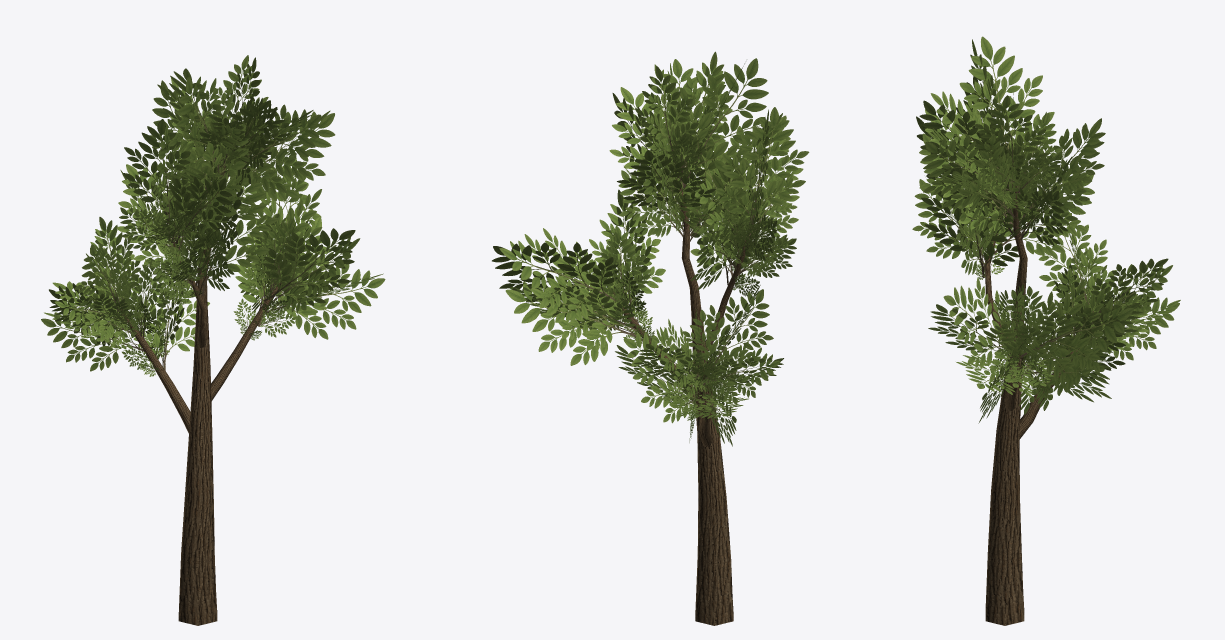
Rendered from Tree7.gltf.
3 renders of one model, left to right at view 1: azimuth 30°, elevation 25°; view 2: azimuth 150°, elevation 25°; view 3: azimuth 270°, elevation 25°, orthographic. The views are drawn at different scales.
Visible parts, largest first — view 1: leaves.007, trunk.007; view 2: leaves.007, trunk.007; view 3: leaves.007, trunk.007.
Boxes of the visible parts, bbox=[...] form: leaves.007: bbox=[41, 55, 385, 376]; trunk.007: bbox=[121, 165, 286, 625]; leaves.007: bbox=[492, 51, 809, 446]; trunk.007: bbox=[613, 178, 746, 625]; leaves.007: bbox=[912, 36, 1180, 423]; trunk.007: bbox=[985, 186, 1093, 625].
Size of the model in its own units: 46.99 by 80.27 by 41.45.
2 materials, 2 textured.
